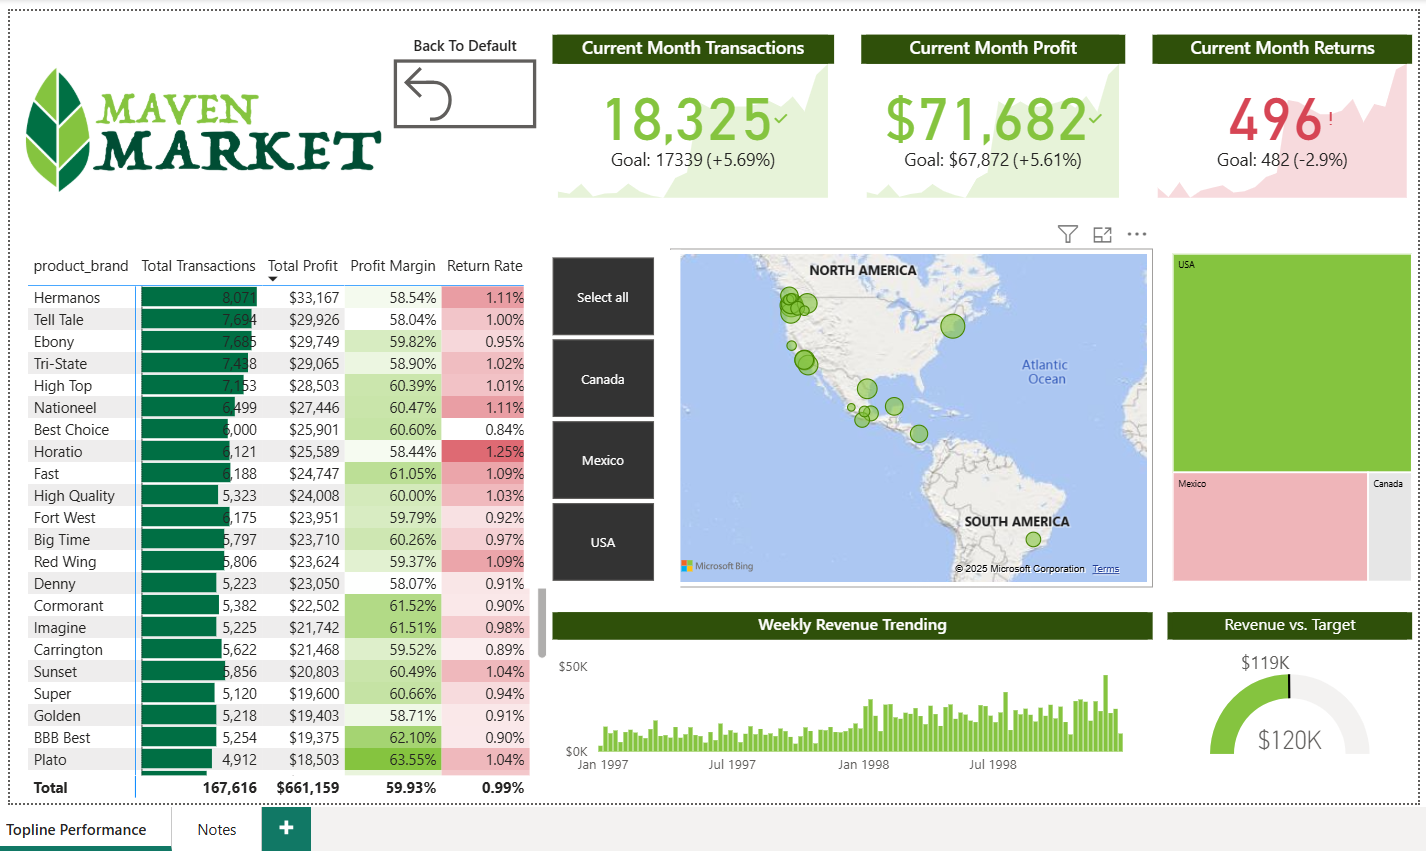

The dashboard page shown, as its layout file describes it:
{"tool":"powerbi","page":{"name":"Topline Performance","canvas":[1280,720],"ordinal":0},"visuals":[{"type":"image","box":[0,0,348.9,215.9],"z":0},{"type":"kpi","title":"Current Month Transactions","fields":{"Indicator":["Transaction_Data.Total Transactions"],"TrendLine":["Calendar.Start of Month"],"Goal":["Transaction_Data.Last Month Transactions"]},"box":[493.2,21.6,255.7,153.4],"z":1000,"group":"g1"},{"type":"pivotTable","fields":{"Rows":["Products.product_brand"],"Values":["Transaction_Data.Total Transactions","Transaction_Data.Total Profit","Transaction_Data.Profit Margin","Return_Data.Return Rate"]},"box":[11.4,215.9,481.8,504.5],"z":1000},{"type":"kpi","title":"Current Month Profit","fields":{"TrendLine":["Calendar.Start of Month"],"Indicator":["Transaction_Data.Total Profit"],"Goal":["Transaction_Data.Last Month Profit"]},"box":[773.9,21.6,239.8,153.4],"z":2000,"group":"g1"},{"type":"map","fields":{"Category":["Stores.store_city"],"Size":["Transaction_Data.Total Transactions"]},"box":[600,215.9,438.6,308],"z":2000},{"type":"kpi","title":"Current Month Returns","fields":{"TrendLine":["Calendar.Start of Month"],"Indicator":["Return_Data.Total Returns"],"Goal":["Return_Data.Last Month Returns"]},"box":[1038.7,21.6,236.4,153.4],"z":3000,"group":"g1"},{"type":"slicer","fields":{"Values":["Stores.store_country"]},"box":[467,217,142,308],"z":3000},{"type":"treemap","fields":{"Group":["Stores.store_country","Stores.store_state","Stores.store_city"],"Values":["Transaction_Data.Quantity Sold"]},"box":[1052.3,215.9,227.3,308],"z":4000},{"type":"clusteredColumnChart","title":"Weekly Revenue Trending","fields":{"Y":["Transaction_Data.Total Revenue"],"Category":["Calendar.Start of Week"]},"box":[493.2,546.6,545.5,156.8],"z":5000},{"type":"gauge","title":"Revenue vs. Target","fields":{"Y":["Transaction_Data.Total Revenue"],"TargetValue":["Transaction_Data.Revenue Target"]},"box":[1052.3,546.6,222.7,134.1],"z":6000},{"type":"group","id":"g1","title":"Group 1","box":[493.2,21.6,781.8,153.4],"z":7000},{"type":"actionButton","title":"Back To Default","box":[348.9,21.6,129.5,85.2],"z":7001}]}

Visuals, with their boxes on the page's 1280x720 design canvas (x1, y1, x2, y2). These are canvas units, not pixel positions in the 1426x851 screenshot, which may show the page scaled, cropped or inside an application window:
image: 0:0:349:216
"Current Month Transactions" kpi: 493:22:749:175
pivotTable - Products.product_brand x Transaction_Data.Total Transactions: 11:216:493:720
"Current Month Profit" kpi: 774:22:1014:175
map - Stores.store_city x Transaction_Data.Total Transactions: 600:216:1039:524
"Current Month Returns" kpi: 1039:22:1275:175
slicer - Stores.store_country: 467:217:609:525
treemap - Stores.store_country x Stores.store_state: 1052:216:1280:524
"Weekly Revenue Trending" clusteredColumnChart: 493:547:1039:703
"Revenue vs. Target" gauge: 1052:547:1275:681
"Group 1" group: 493:22:1275:175
"Back To Default" actionButton: 349:22:478:107
